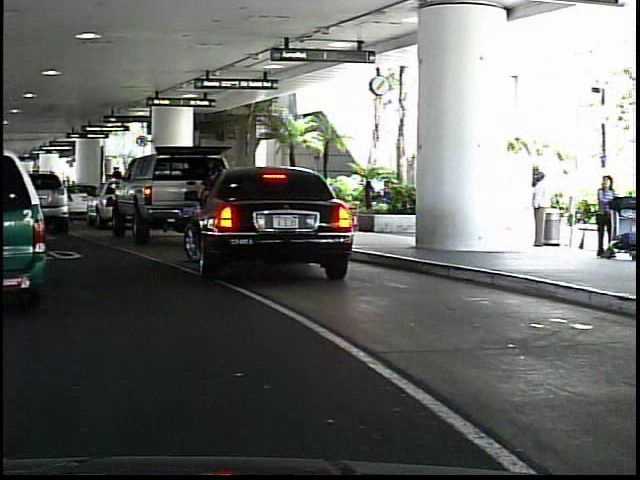person: (589, 169, 619, 264)
